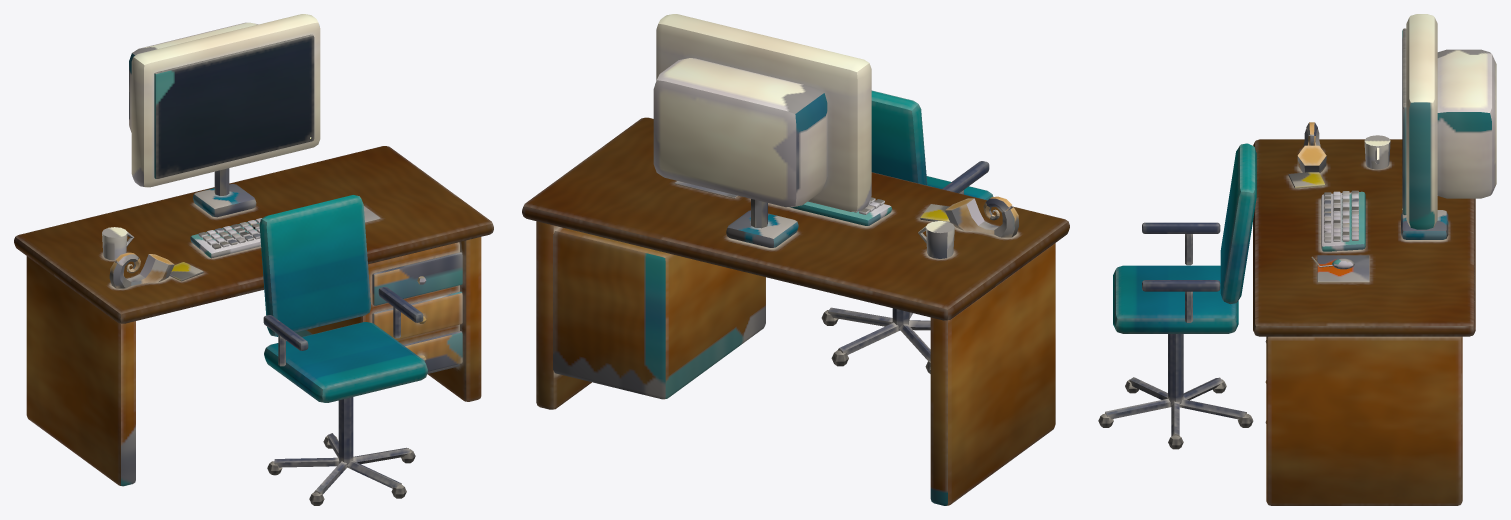
Rendered from computer_desk.glb.
The picture shows the model from 3 angles, left to right: view 1: azimuth 30°, elevation 25°; view 2: azimuth 150°, elevation 25°; view 3: azimuth 270°, elevation 25°; orthographic projection. The views are drawn at different scales.
Visible parts, largest first — view 1: Desk, Chair; view 2: Desk, Chair; view 3: Desk, Chair.
Part boxes in pixels (x1,y1,x2,y2): Desk: [14, 14, 493, 486]; Chair: [259, 195, 427, 505]; Desk: [522, 14, 1069, 505]; Chair: [821, 90, 993, 373]; Desk: [1253, 14, 1496, 505]; Chair: [1098, 143, 1256, 449].
Size of what is drawn, in the model's own units: 1.7 by 1.53 by 1.52.
Materials: 2 (1 with a texture image).
